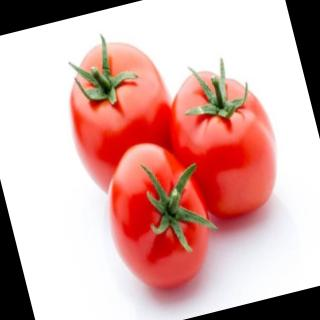Tomat: (50, 21, 190, 200), (154, 49, 293, 229), (92, 130, 230, 300)
